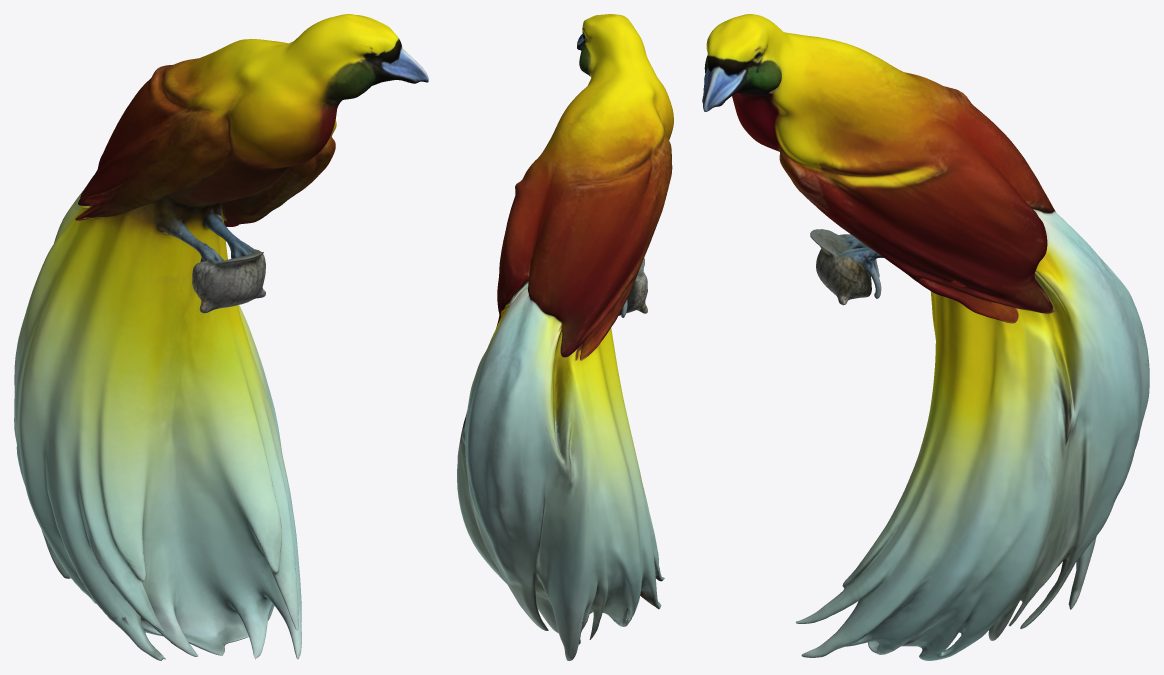
The model's file is cenderawasih.glb.
3 views of the same model, side by side, from view 1: azimuth 30°, elevation 25°; view 2: azimuth 150°, elevation 25°; view 3: azimuth 270°, elevation 25° (orthographic). The views are drawn at different scales.
Parts seen in each view (by area): view 1: Object_01; view 2: Object_01; view 3: Object_01.
Boxes of the visible parts, x1,y1,x2,y2 form: Object_01: [14, 14, 428, 660]; Object_01: [457, 14, 673, 660]; Object_01: [702, 14, 1149, 660].
Size of the model in its own units: 0.1324 by 0.35 by 0.2178.
Materials: 1 (1 with a texture image).
